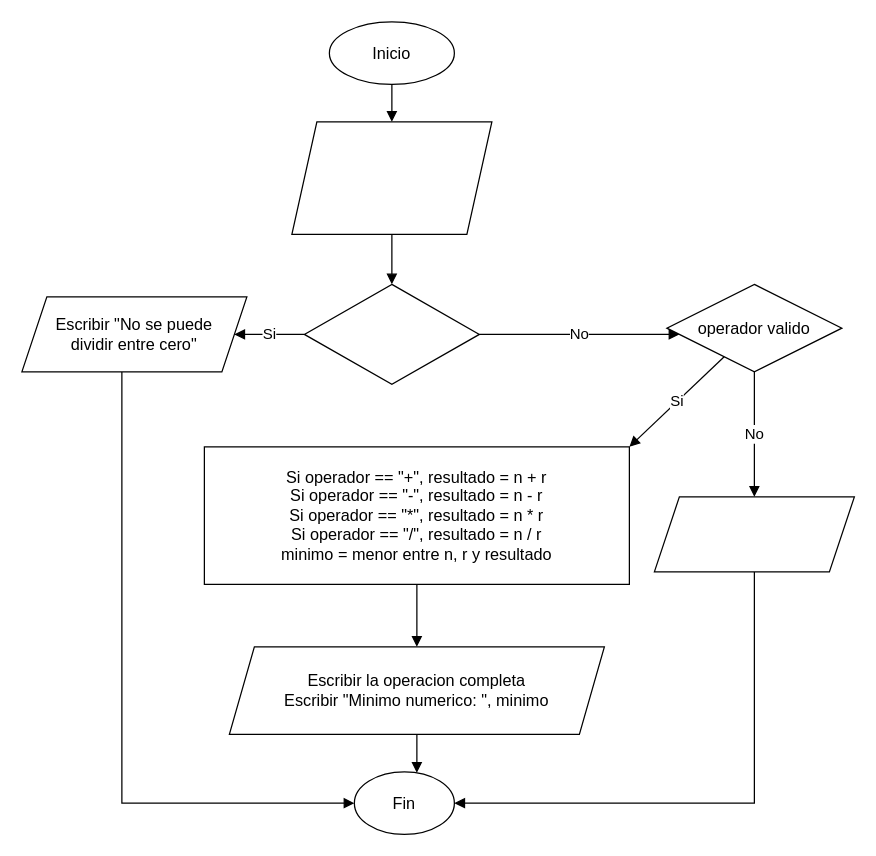
Image size: 876x856. Some labels were removed from this diagram. Each missing label, with the centre of its shape:
Escribir "Operador no valido": pixel 753 534
Leer n Leer r Leer operador: pixel 391 177
operador == "/" y r == 0.0: pixel 391 333
